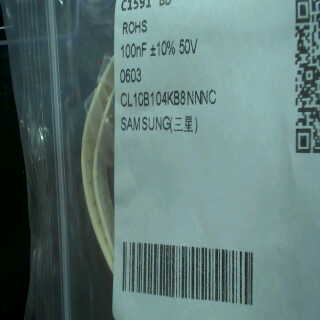100nF: (118, 36, 148, 62)
